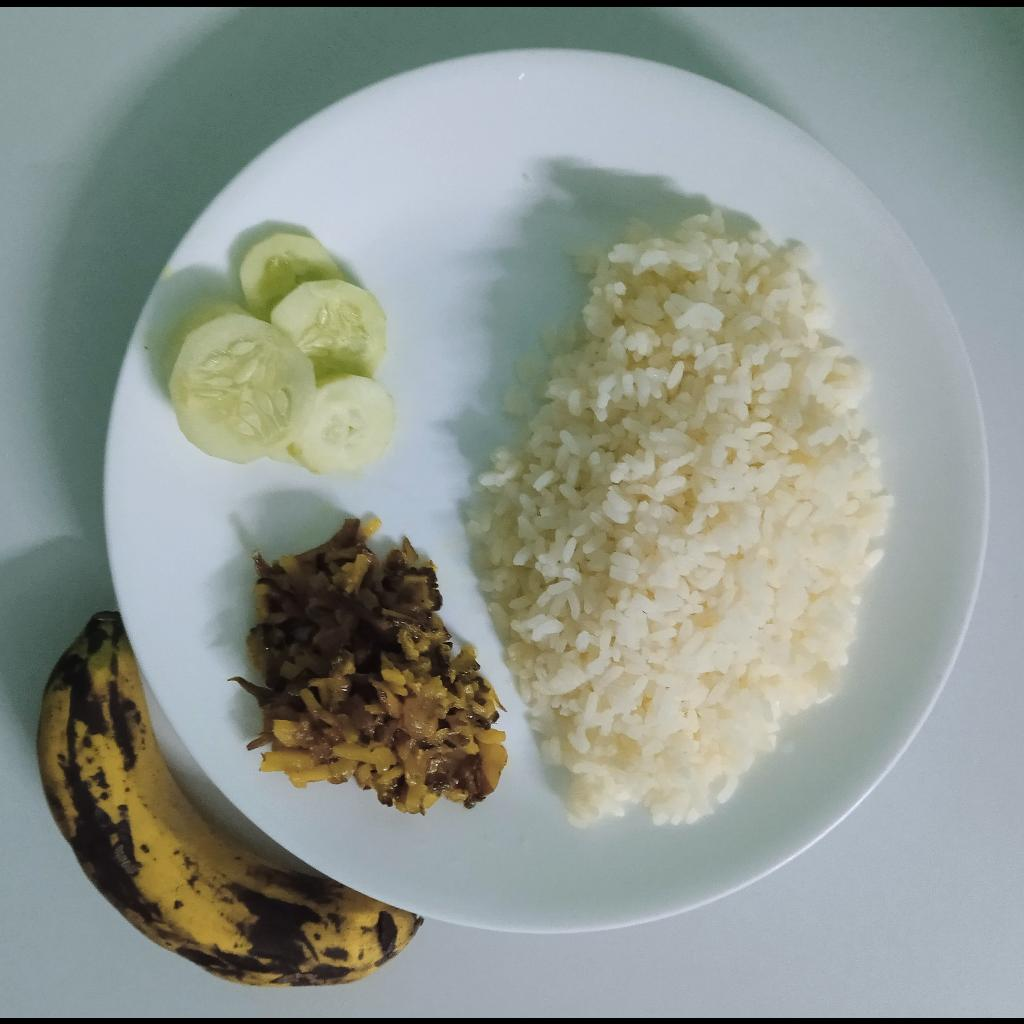banana: (40, 612, 423, 986)
cucumber: (159, 230, 398, 473)
rice: (459, 201, 892, 831)
vegetable: (226, 515, 513, 813)
